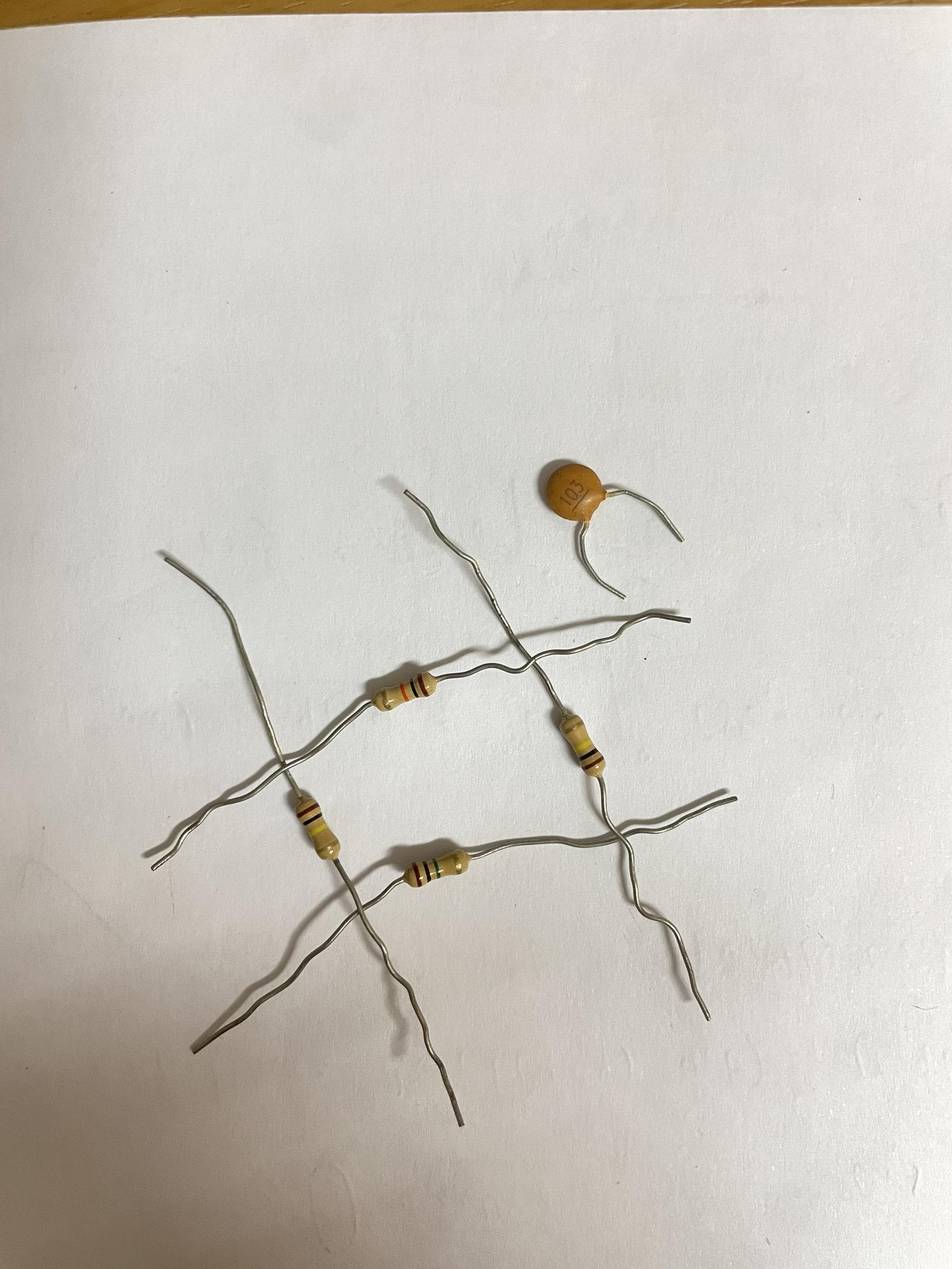resistor: (546, 694, 617, 780), (283, 780, 342, 861), (358, 662, 435, 709), (397, 846, 479, 888)
